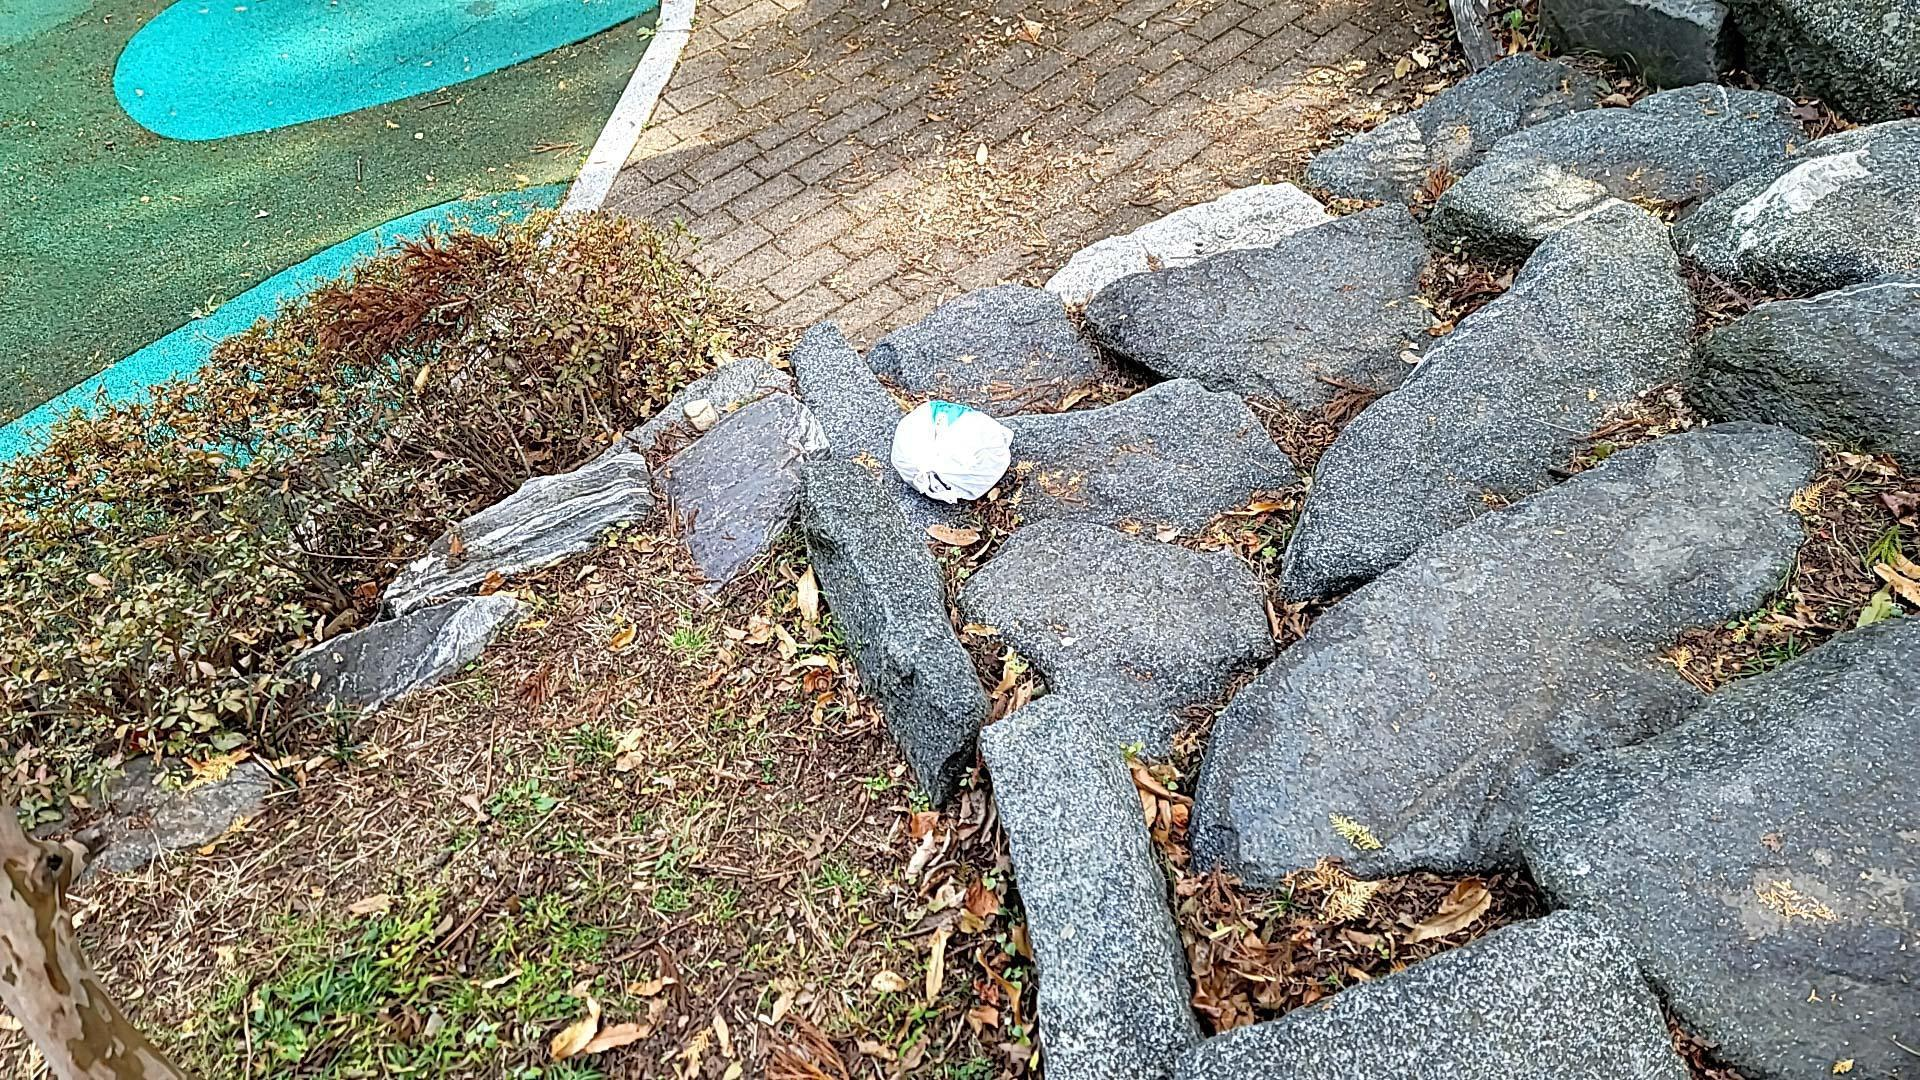white_bag: (872, 396, 1018, 509)
